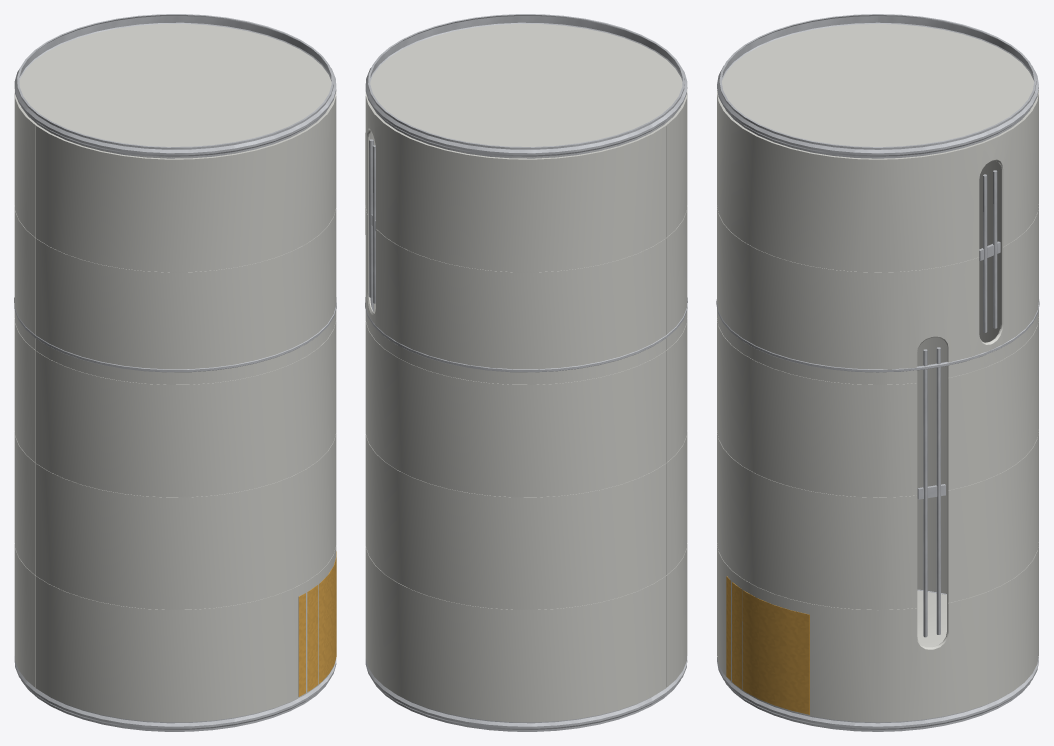
Rendered from ax_tank_03_heavy_methalox_xxl_medium.glb.
The picture shows the model from 3 angles, left to right: view 1: azimuth 30°, elevation 25°; view 2: azimuth 150°, elevation 25°; view 3: azimuth 270°, elevation 25°; orthographic projection.
Visible parts, largest first — view 1: tank_barrel, dome_caps, end_rings, mli_patch, common_bulkhead_ring; view 2: tank_barrel, dome_caps, end_rings, common_bulkhead_ring, raceway_lines; view 3: tank_barrel, dome_caps, end_rings, mli_patch, raceway_lines, common_bulkhead_ring.
Boxes of the visible parts, x1,y1,x2,y2 form: tank_barrel: (14, 89, 336, 722); dome_caps: (19, 24, 331, 158); end_rings: (14, 14, 336, 731); mli_patch: (298, 551, 336, 696); common_bulkhead_ring: (14, 297, 336, 372); tank_barrel: (365, 89, 687, 722); dome_caps: (370, 24, 682, 158); end_rings: (365, 14, 687, 731); common_bulkhead_ring: (365, 297, 687, 372); raceway_lines: (369, 139, 376, 311); tank_barrel: (717, 90, 1038, 722); dome_caps: (722, 24, 1033, 646); end_rings: (717, 14, 1038, 731); mli_patch: (726, 576, 809, 714); raceway_lines: (917, 170, 1000, 637); common_bulkhead_ring: (716, 299, 1039, 372).
Size of the model in its own units: 7.52 by 15 by 7.52.
3 materials, 2 textured.
